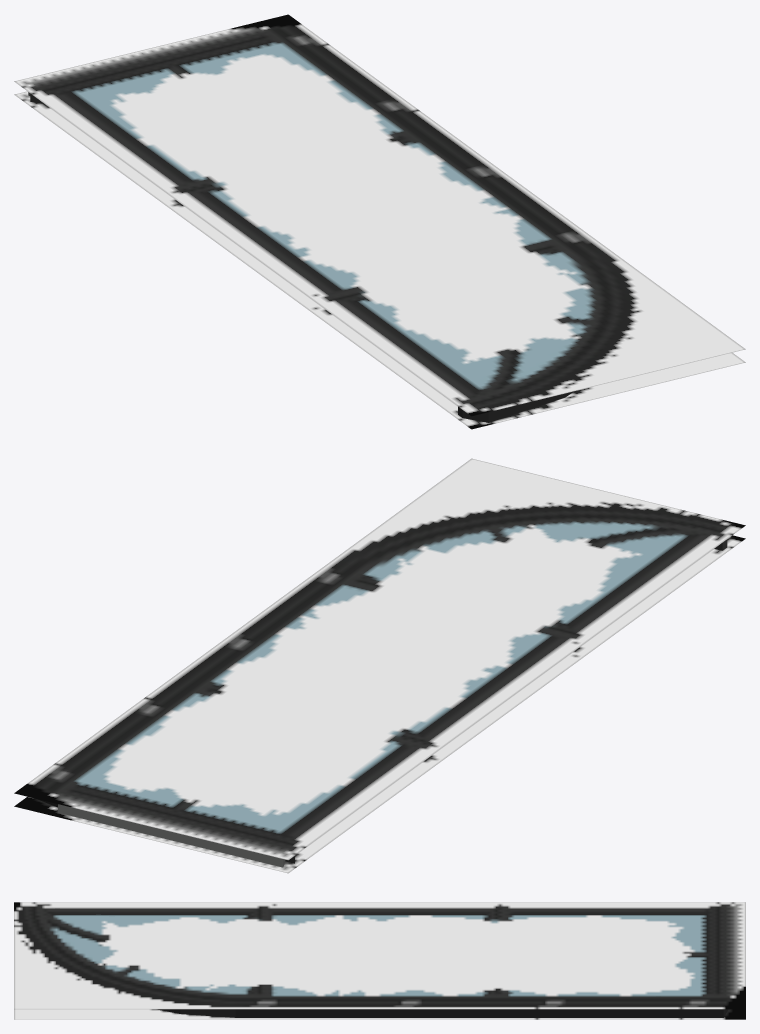
Rendered from pz_native_fixtures_windows_metal_63_frame.obj.
3 renders of one model, top to bottom at view 1: azimuth 30°, elevation 25°; view 2: azimuth 150°, elevation 25°; view 3: azimuth 270°, elevation 25°, orthographic. The views are drawn at different scales.
Visible parts, largest first — view 1: pz_native_fixtures_windows_metal_63_frame; view 2: pz_native_fixtures_windows_metal_63_frame; view 3: pz_native_fixtures_windows_metal_63_frame.
Part boxes in pixels (x1=…): pz_native_fixtures_windows_metal_63_frame: x1=14, y1=14, x2=745, y2=429; pz_native_fixtures_windows_metal_63_frame: x1=14, y1=458, x2=745, y2=873; pz_native_fixtures_windows_metal_63_frame: x1=14, y1=902, x2=745, y2=1019.
Size of the model in its own units: 0.875 by 0.04 by 2.53.
1 material, 1 textured.
